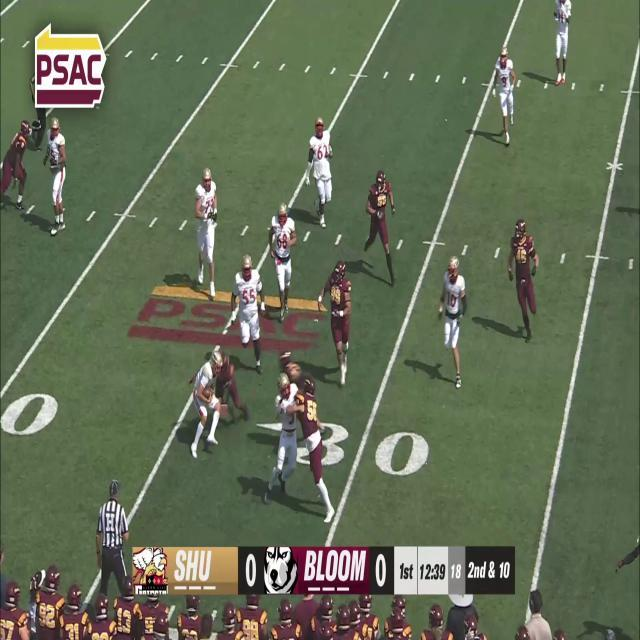football: (202, 386, 212, 399)
